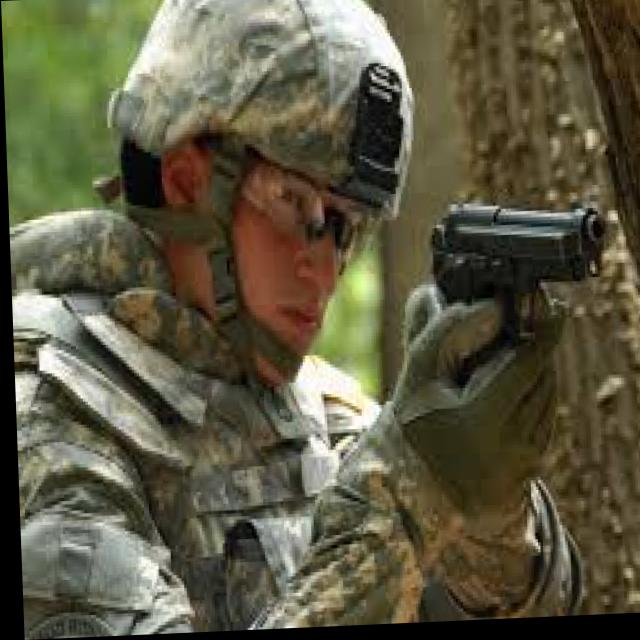handgun: (428, 173, 612, 389)
